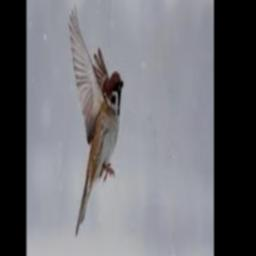Sparrow: (67, 4, 123, 236)
